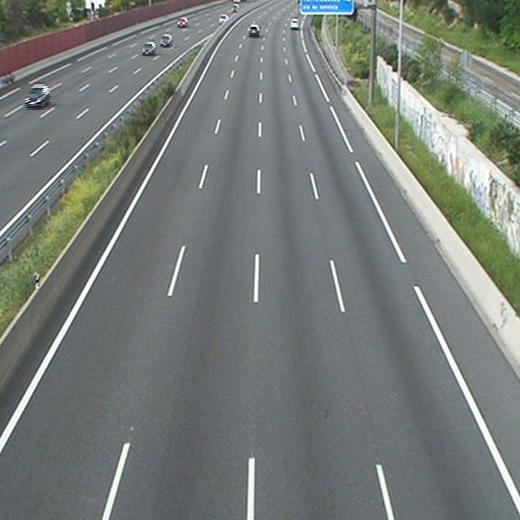car: (247, 24, 261, 36), (290, 19, 299, 29)
